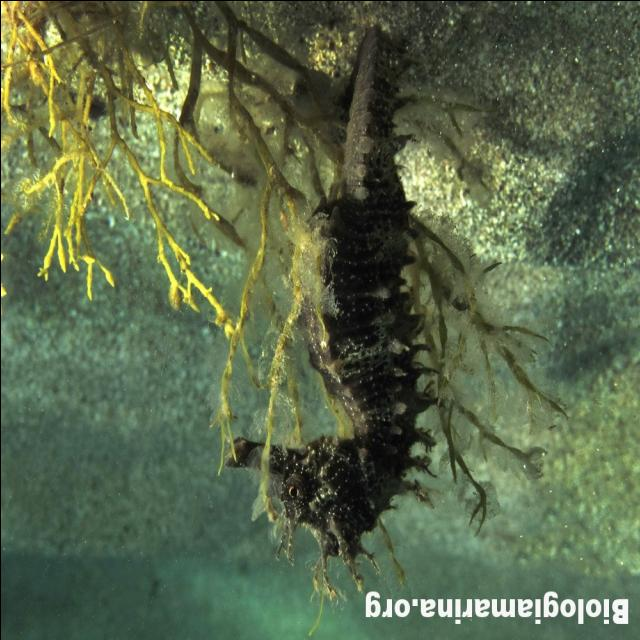Guttu: (218, 421, 378, 566)
